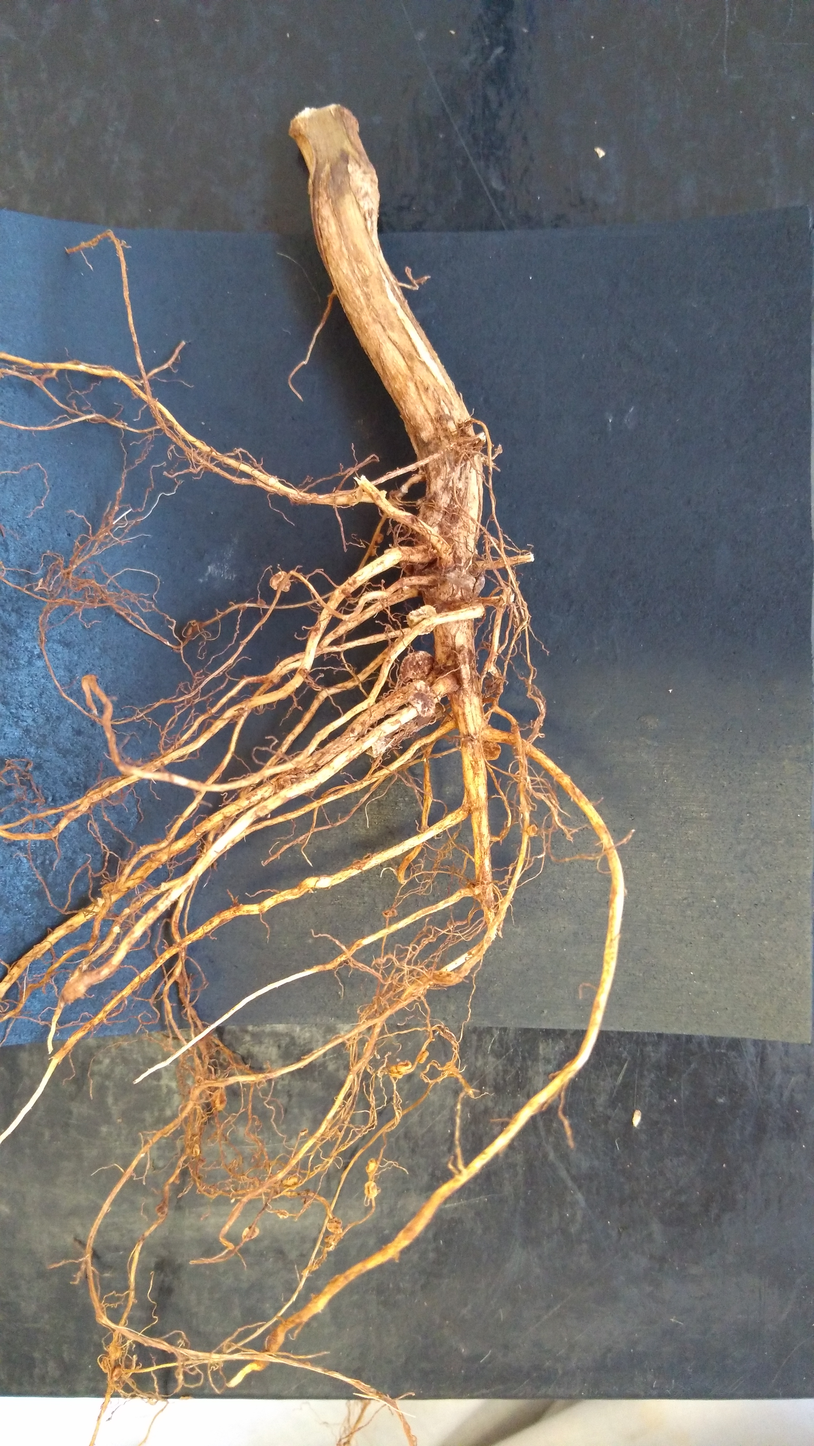nodule: (402, 677, 441, 721), (395, 649, 441, 686), (405, 604, 445, 636), (479, 738, 509, 768), (269, 569, 296, 593), (360, 1177, 381, 1203), (210, 1087, 229, 1114), (324, 1214, 345, 1234), (240, 1224, 262, 1243), (363, 1155, 380, 1178), (281, 1174, 301, 1190), (380, 907, 400, 921), (416, 1048, 432, 1065), (396, 1059, 414, 1073), (526, 821, 538, 837), (276, 1207, 290, 1220), (190, 1142, 201, 1158), (255, 598, 268, 607), (389, 1064, 399, 1074), (238, 603, 249, 612), (324, 1242, 336, 1250), (324, 1236, 334, 1242)
